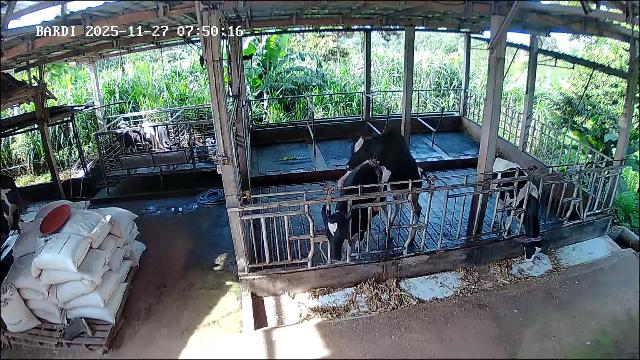mounting: (336, 130, 433, 243)
